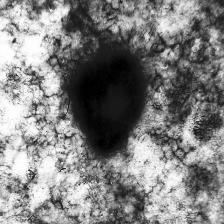Benign Marking or Mole: (70, 53, 144, 156)
